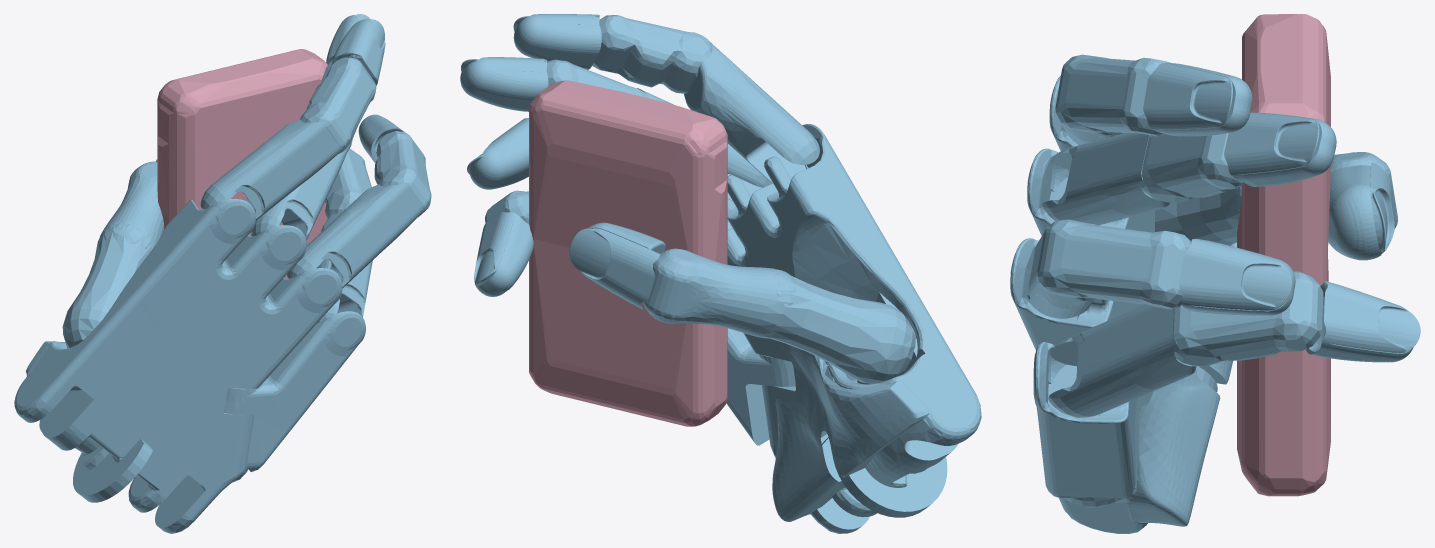
3 views of the same model, side by side, from view 1: azimuth 30°, elevation 25°; view 2: azimuth 150°, elevation 25°; view 3: azimuth 270°, elevation 25° (orthographic). The views are drawn at different scales.
Parts seen in each view (by area): view 1: hand_isaac_q, world; view 2: hand_isaac_q, world; view 3: hand_isaac_q, world.
Boxes of the visible parts, <box> form: hand_isaac_q: <box>14,14,431,533</box>; world: <box>157,49,327,279</box>; hand_isaac_q: <box>460,14,981,533</box>; world: <box>529,80,727,426</box>; hand_isaac_q: <box>1010,54,1420,533</box>; world: <box>1237,14,1330,496</box>.
Bounding box in the file's own units: 0.1683 × 0.1671 × 0.0993.
